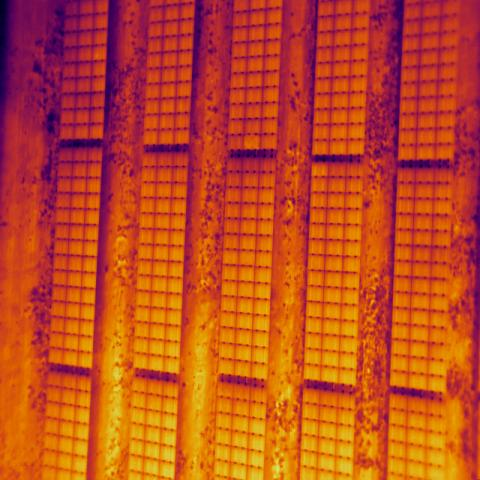fault: (244, 134, 260, 149)
